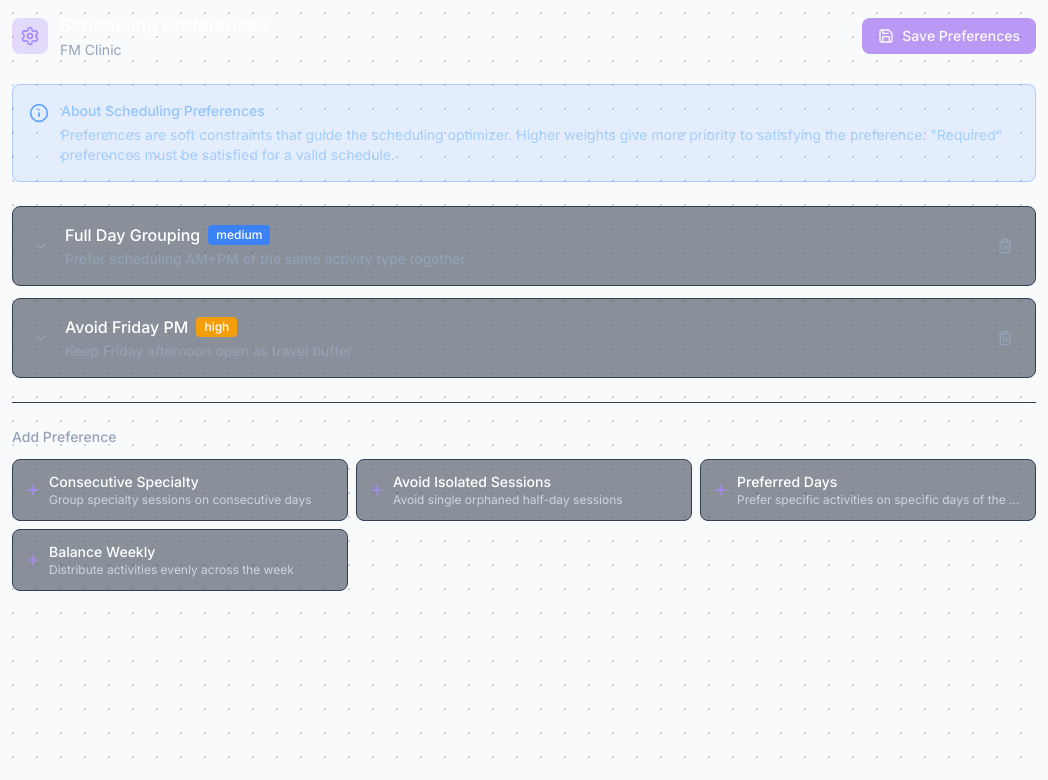
Test case: PreferenceEditor › Saving › enables save button after changes
Note: Make a change - add a preference
Click the text "Consecutive Specialty": (124, 482) [49,473,199,490]
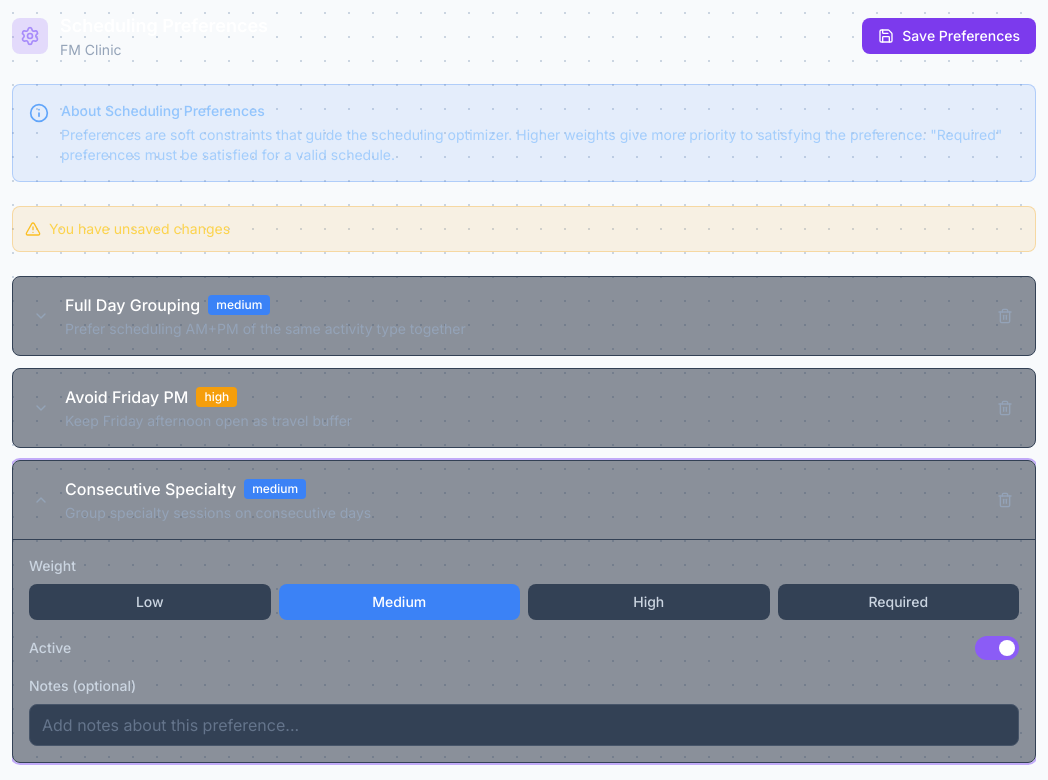
Expected: the button "Save Preferences" is enabled, [862,18,1036,54]
